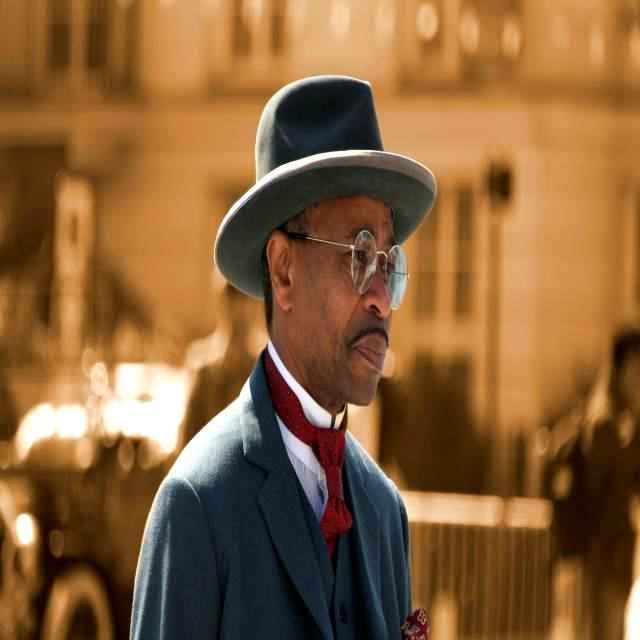no_hard_hat: (214, 76, 436, 299)
person: (131, 76, 436, 640)
